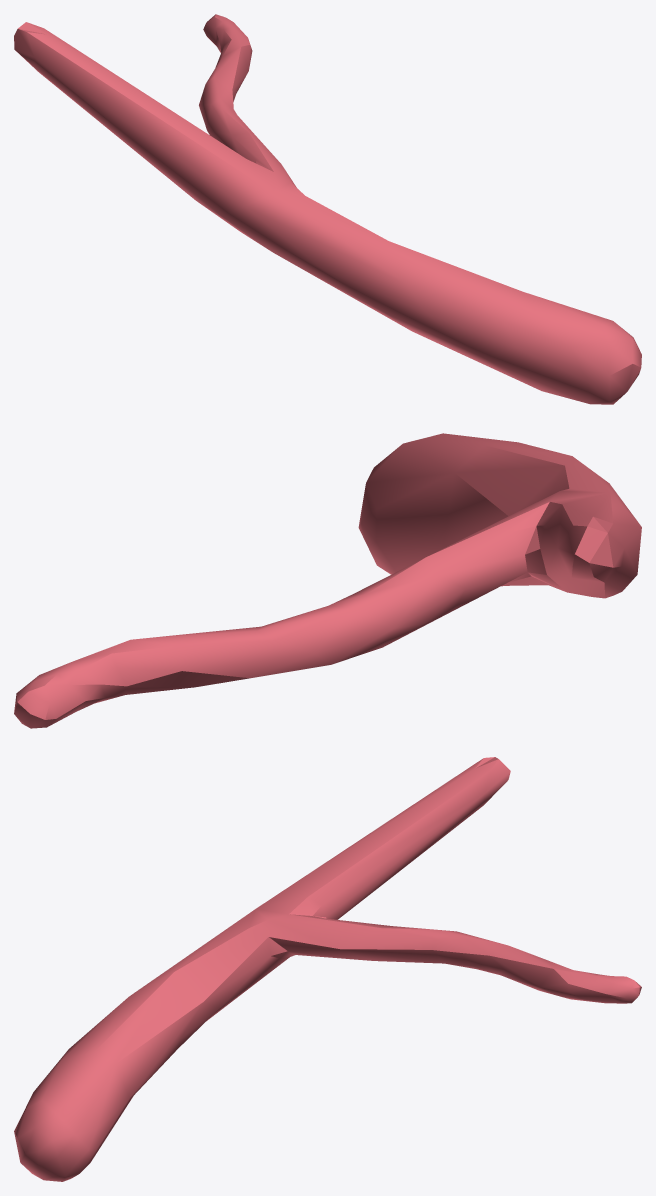
The model's file is fma3892_fj2734.glb.
3 views of the same model, one above another, from view 1: azimuth 30°, elevation 25°; view 2: azimuth 150°, elevation 25°; view 3: azimuth 270°, elevation 25° (orthographic). The views are drawn at different scales.
Visible parts, largest first — view 1: FMA3892_FJ2734; view 2: FMA3892_FJ2734; view 3: FMA3892_FJ2734.
Boxes of the visible parts, x1,y1,x2,y2 form: FMA3892_FJ2734: (14,14,641,404); FMA3892_FJ2734: (14,433,641,728); FMA3892_FJ2734: (14,757,641,1181).
Bounding box in the file's own units: 0.00982 × 0.00703 × 0.0149.
